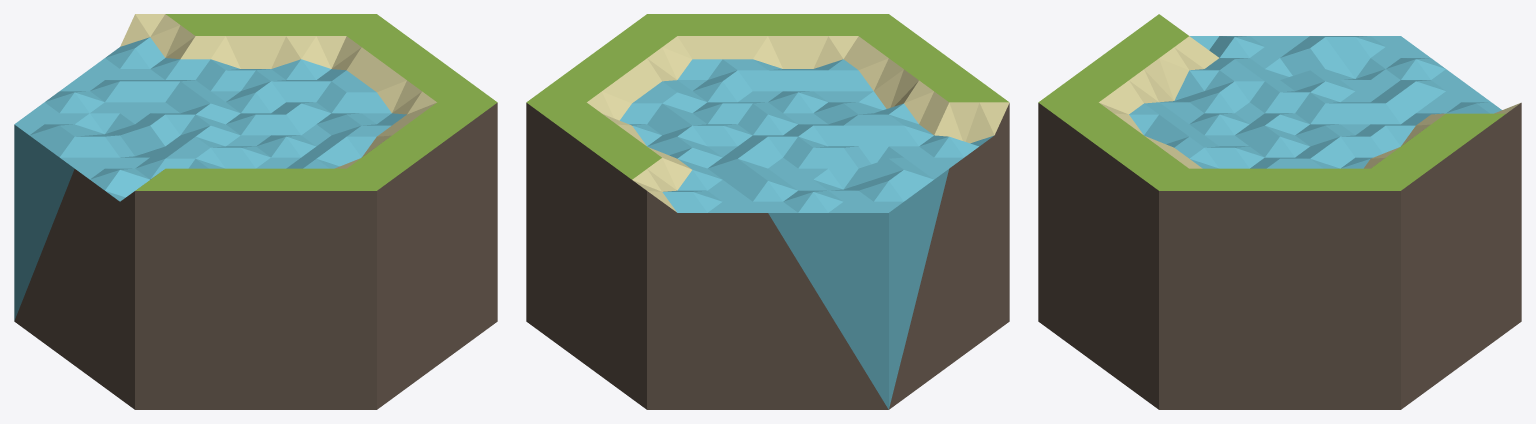
File: coast4.fbx
The picture shows the model from 3 angles, left to right: view 1: azimuth 30°, elevation 25°; view 2: azimuth 150°, elevation 25°; view 3: azimuth 270°, elevation 25°; orthographic projection.
Visible parts, largest first — view 1: Cylinder; view 2: Cylinder; view 3: Cylinder.
Boxes of the visible parts, x1,y1,x2,y2 form: Cylinder: [14, 14, 497, 409]; Cylinder: [526, 14, 1009, 409]; Cylinder: [1038, 14, 1521, 409].
Size of the model in its own units: 1.73 by 1 by 2.
